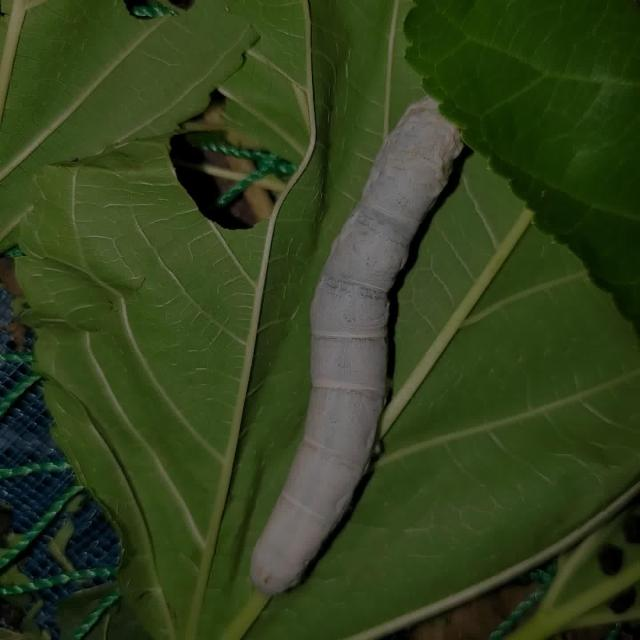Healthy: (215, 58, 508, 599)
